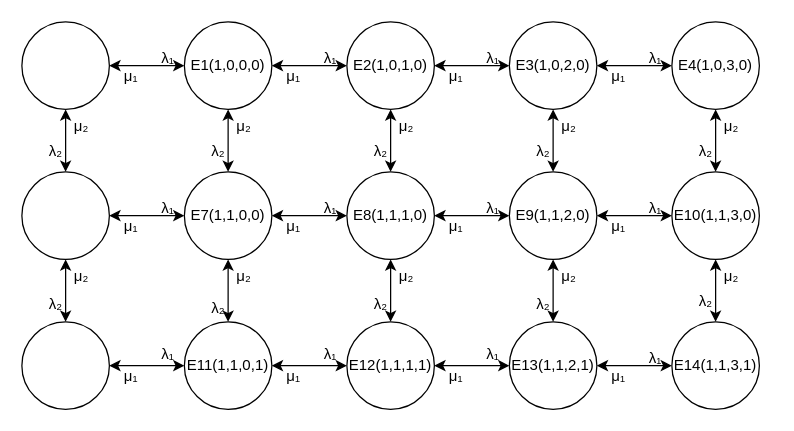
This 794x431 diagram has some shape labels left out. Each missing label, with the centre of its shape:
Е0(0,0,0,0): the point at 65,65
Е5(0,1,0,0): the point at 65,215
Е6(0,1,0,1): the point at 65,365
